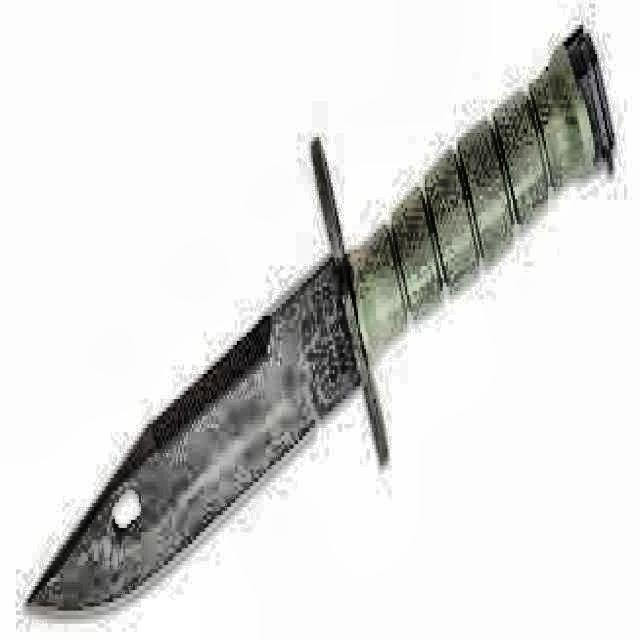knife: (22, 16, 624, 622)
